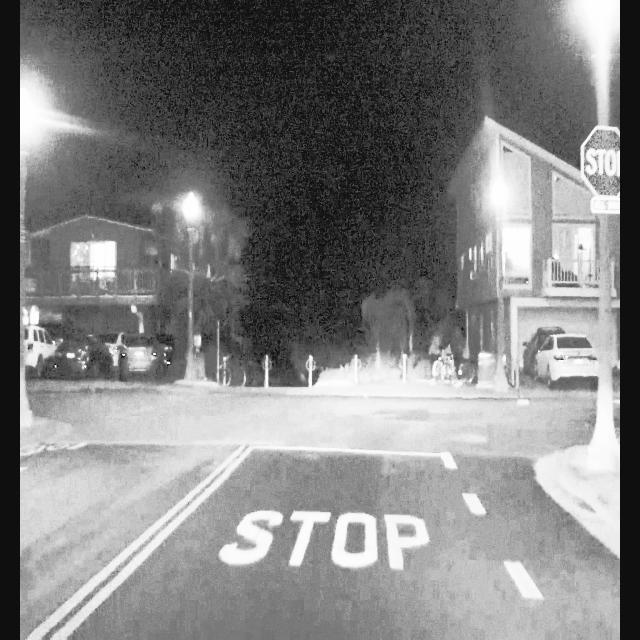Sign: (581, 126, 621, 197), (592, 197, 621, 213)
